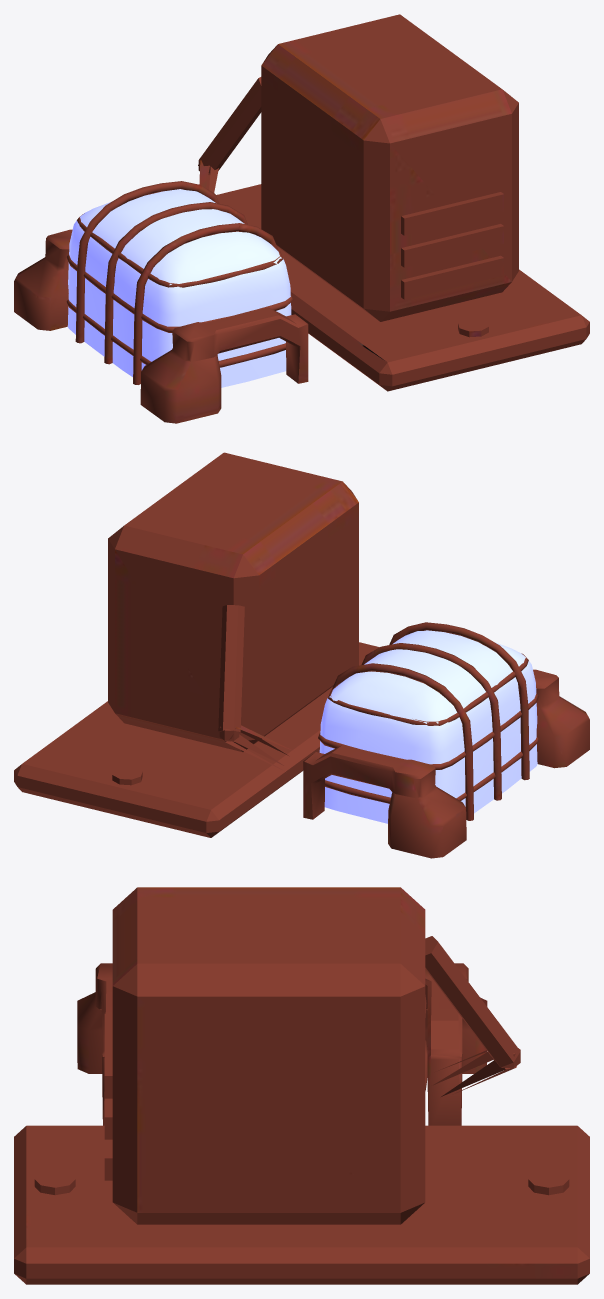
The model's file is rail-chain-signal.glb.
3 renders of one model, top to bottom at view 1: azimuth 30°, elevation 25°; view 2: azimuth 150°, elevation 25°; view 3: azimuth 270°, elevation 25°, orthographic. The views are drawn at different scales.
Visible parts, largest first — view 1: body, anim_lit_blue; view 2: body, anim_lit_blue; view 3: body.
Part boxes in pixels (<box>): body: <box>14,14,589,423</box>; anim_lit_blue: <box>67,189,291,387</box>; body: <box>14,452,589,858</box>; anim_lit_blue: <box>319,630,537,823</box>; body: <box>14,887,589,1284</box>.
Bounding box in the file's own units: 0.7237 × 0.4 × 0.7.
Materials: 5 (1 with a texture image).
